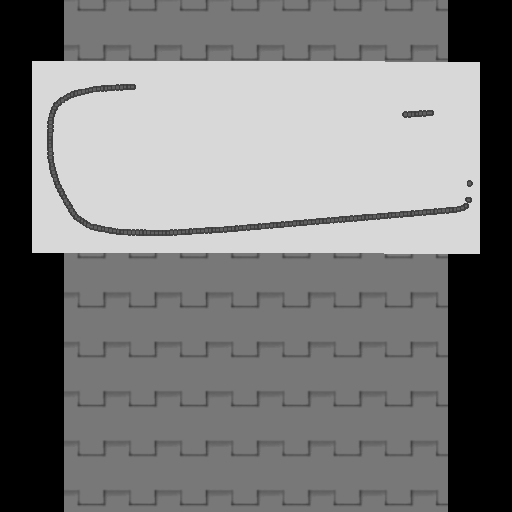Defect: (134, 75, 403, 127)
